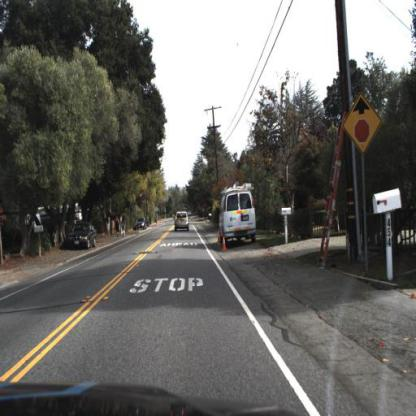car: (218, 179, 260, 247), (68, 220, 99, 247), (174, 209, 192, 234)
pedestrian: (115, 216, 123, 239), (121, 214, 126, 236)
truck: (217, 186, 261, 247)
